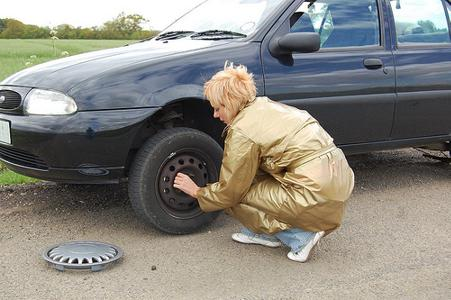person: (172, 64, 355, 263)
